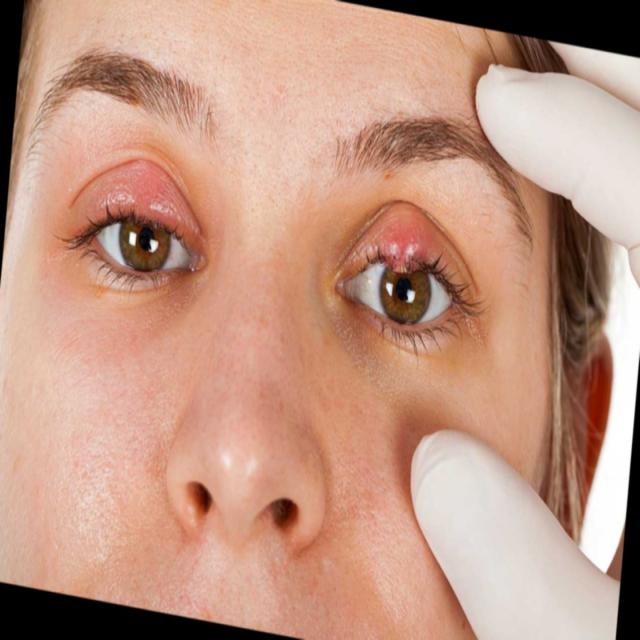Chalazion: (336, 198, 473, 357)
Healthy-Eye: (61, 153, 214, 330)
